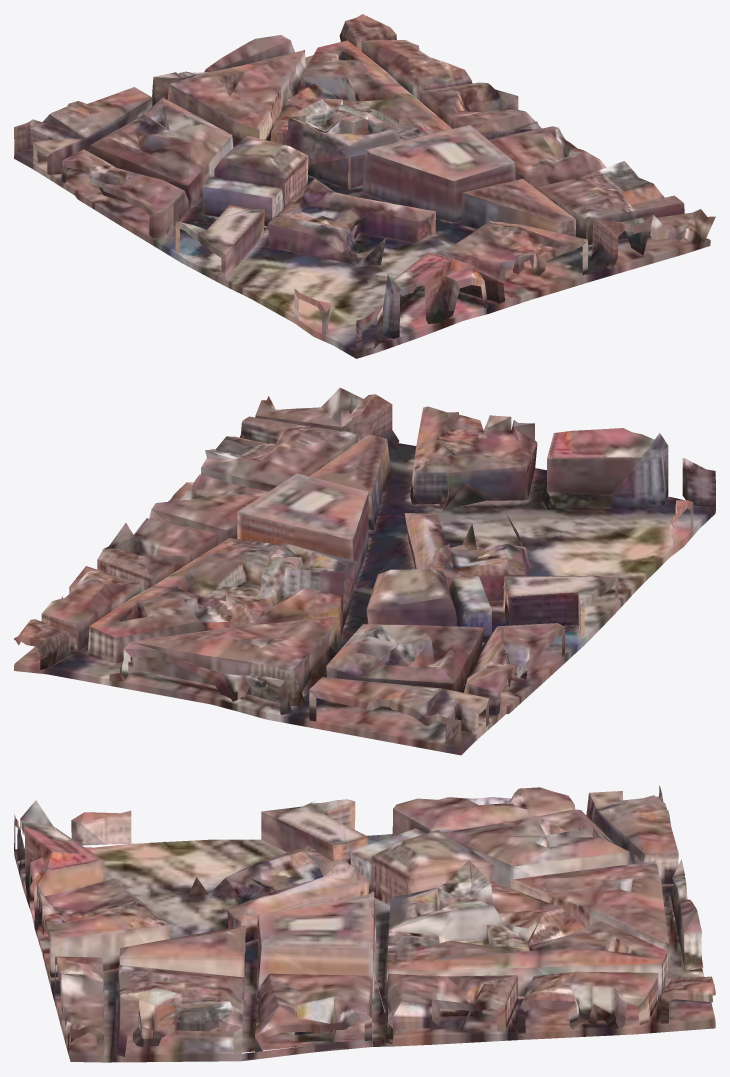
3 views of the same model, one above another, from view 1: azimuth 30°, elevation 25°; view 2: azimuth 150°, elevation 25°; view 3: azimuth 270°, elevation 25° (orthographic). The views are drawn at different scales.
Visible parts, largest first — view 1: Mesh_0; view 2: Mesh_0; view 3: Mesh_0.
Boxes of the visible parts, <box> form: Mesh_0: <box>14,14,715,358</box>; Mesh_0: <box>14,387,715,755</box>; Mesh_0: <box>14,785,715,1062</box>.
Size of the model in its own units: 270 by 43.28 by 330.
2 materials, 2 textured.
